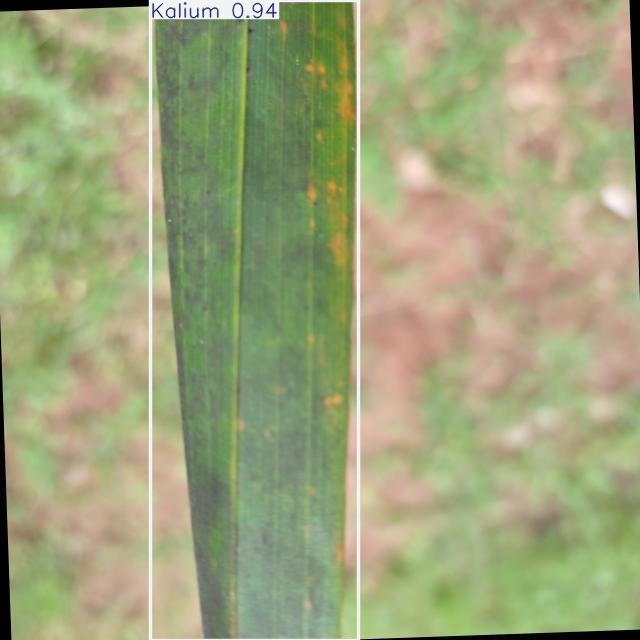Kalium: (151, 1, 358, 640)
